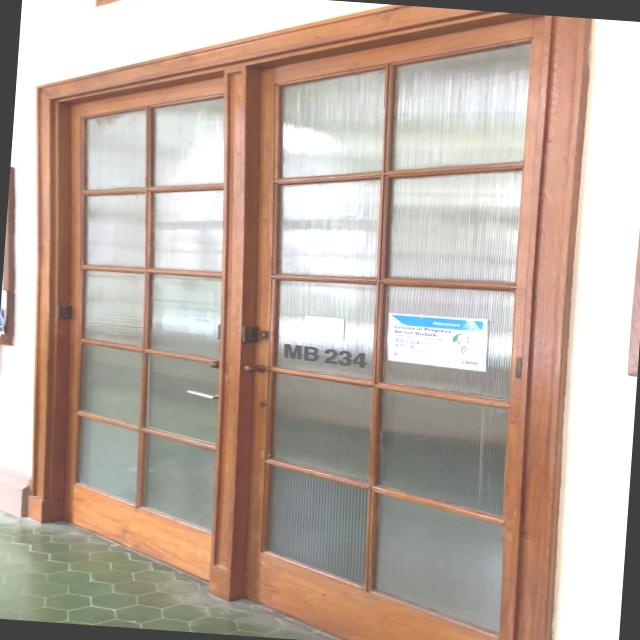room234Window: (276, 340, 369, 370)
